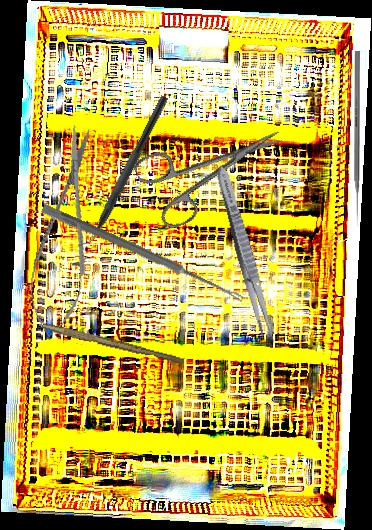Chopper: (74, 89, 169, 255)
Dressing Forceps: (210, 162, 281, 347)
Iris Scissors: (131, 103, 298, 234)
Micro Scissor: (20, 121, 110, 345)
Pusher: (354, 51, 360, 227)
Scalpel Handle: (40, 322, 186, 366)
Surgical Spoon: (40, 203, 246, 304)
